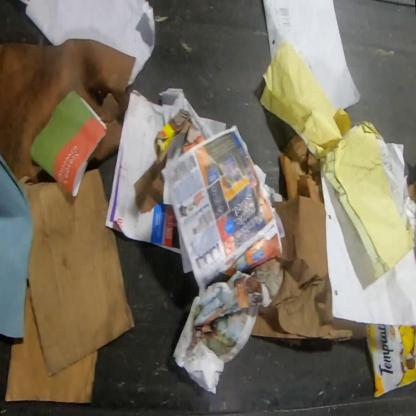cardboard: (16, 167, 137, 377), (4, 277, 100, 405), (279, 133, 324, 205), (154, 108, 192, 166), (250, 306, 310, 340), (319, 316, 368, 342), (182, 121, 206, 153), (407, 179, 415, 204)
soft_plastic: (366, 322, 415, 400)
